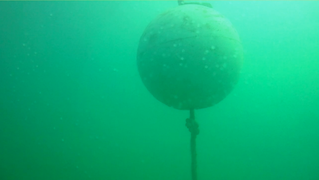buoy: (136, 3, 243, 110)
